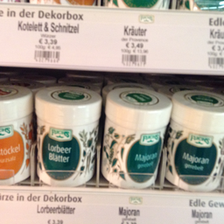spices: (102, 87, 172, 188), (34, 85, 103, 186), (164, 89, 224, 189), (1, 85, 33, 185)
